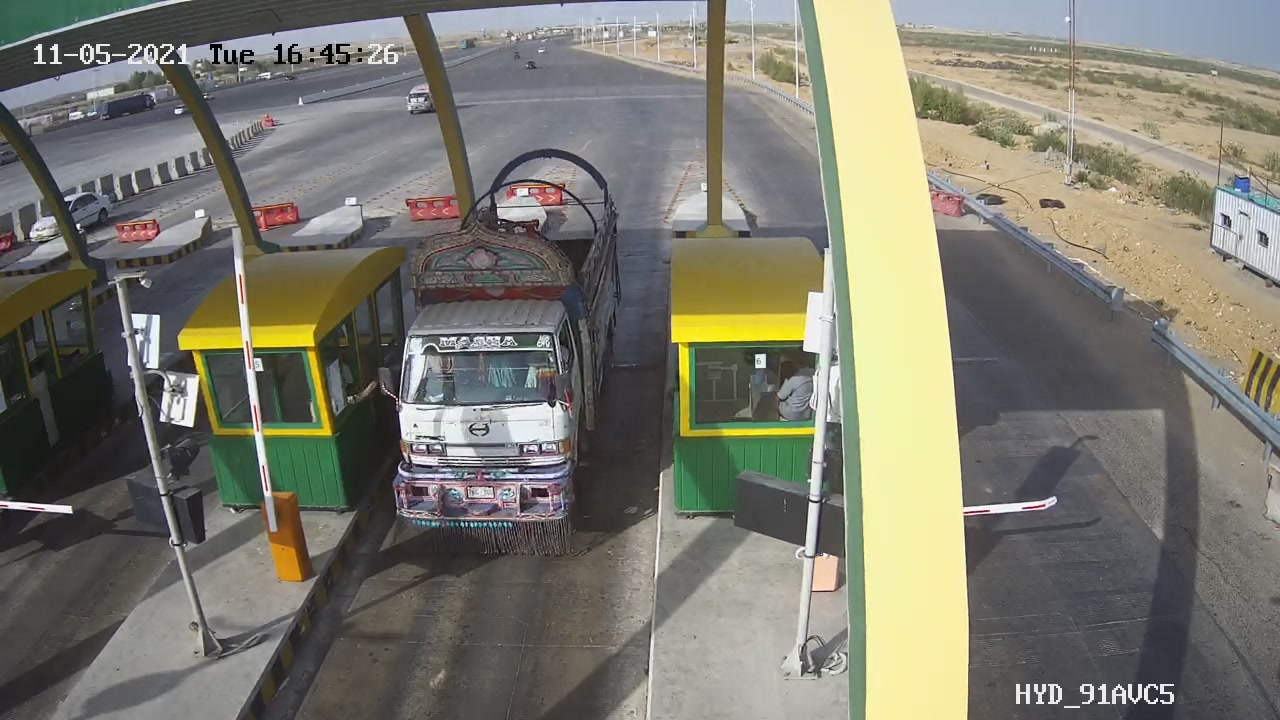F5: (355, 132, 650, 580)
